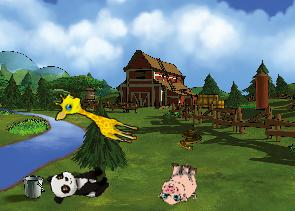giraffe: (49, 89, 144, 146)
panda: (46, 162, 111, 205)
pig: (157, 160, 201, 207)
